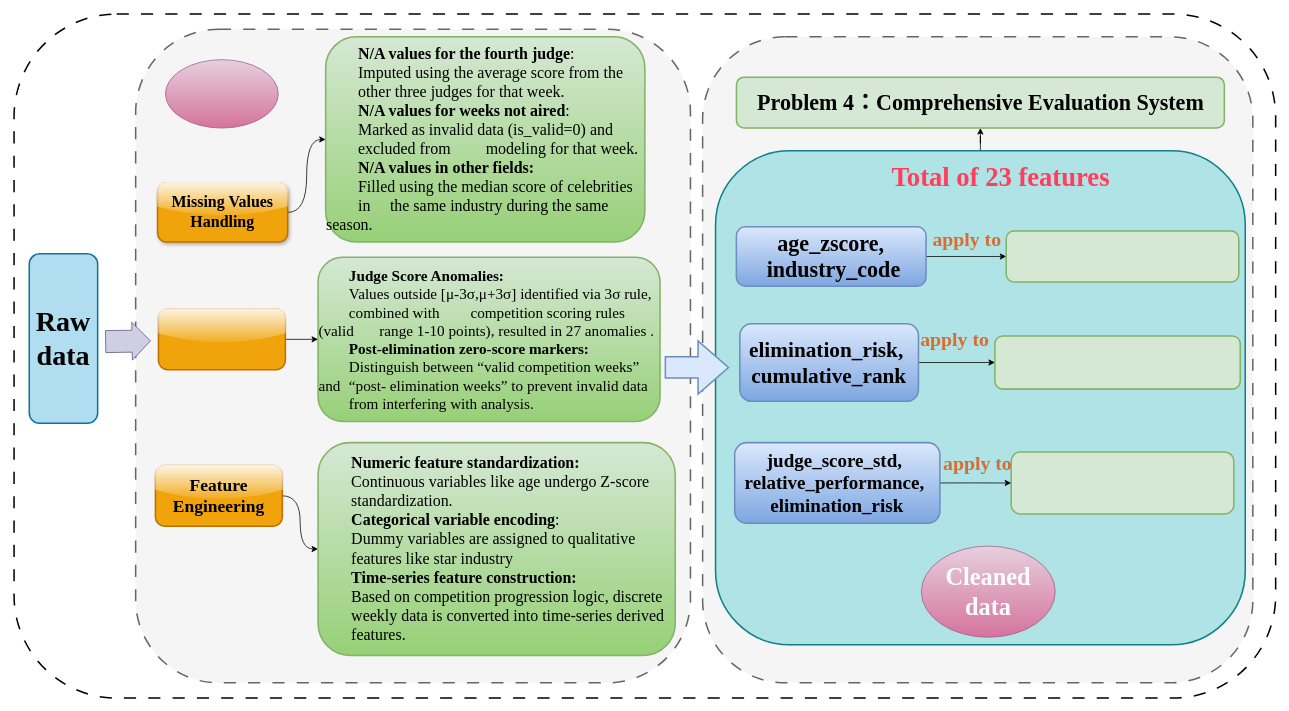
The diagram is 1289 pixels wide and 711 high, and some of its shapes have lost their labels. Here are the shapes that lost their labels. From the top down, the centre of each, then its label:
At (x=221, y=93): "Strategies".
At (x=1122, y=256): "Problem 3: Analysis of Star Trait Influence".
At (x=221, y=339): "Outlier Handling".
At (x=1117, y=362): "Problem 2: Comparative Analysis of Elimination Methods".
At (x=1122, y=482): "Problem 1: Audience Voting Backward Inference".
